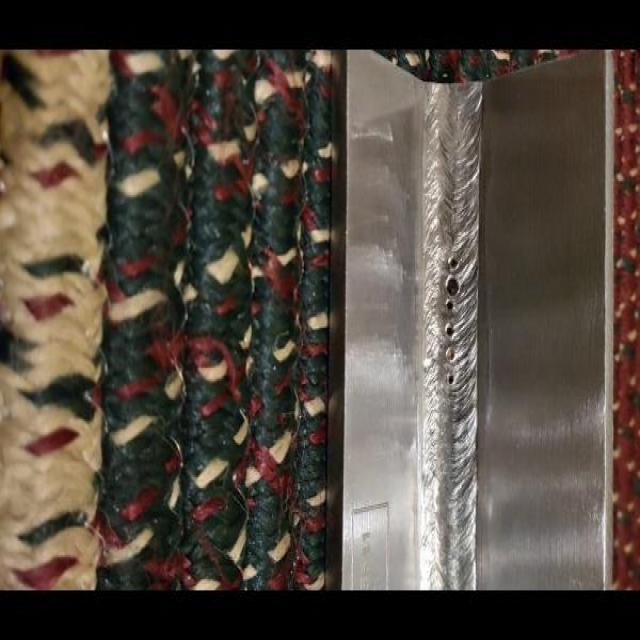Welding Line: (426, 84, 478, 594)
Workpiece: (331, 48, 615, 593)
porosity: (443, 256, 459, 384)
